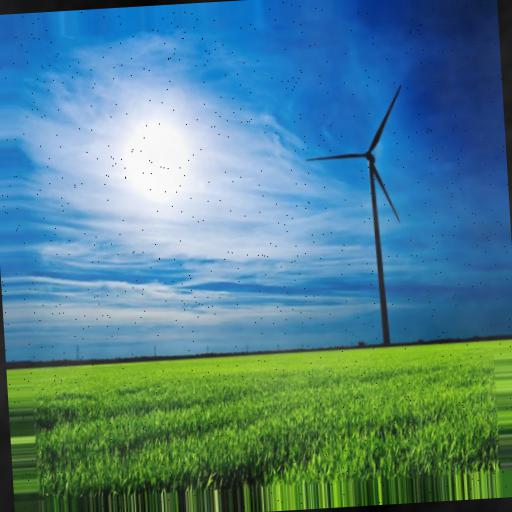wind turbine: (304, 85, 403, 346)
